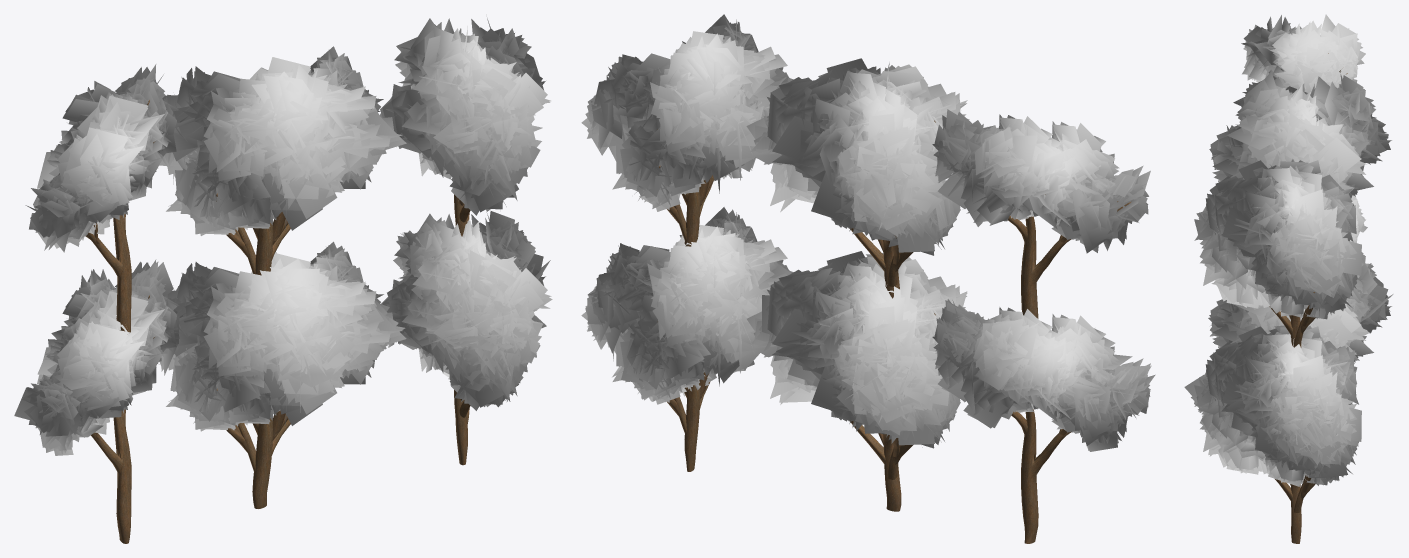
The model's file is 1_TreeTop_1A.fbx.
The picture shows the model from 3 angles, left to right: view 1: azimuth 30°, elevation 25°; view 2: azimuth 150°, elevation 25°; view 3: azimuth 270°, elevation 25°; orthographic projection. The views are drawn at different scales.
Parts seen in each view (by area): view 1: TreeTop_1A2, TreeTop_1A2.001, TreeTop_1A3, TreeTop_1A3.001, TreeTop_1A1, TreeTop_1A1.001; view 2: TreeTop_1A2, TreeTop_1A2.001, TreeTop_1A3, TreeTop_1A3.001, TreeTop_1A1, TreeTop_1A1.001; view 3: TreeTop_1A3, TreeTop_1A3.001, TreeTop_1A2.001, TreeTop_1A1.001, TreeTop_1A2, TreeTop_1A1.
Part boxes in pixels (x1,y1,x2,y2): TreeTop_1A2: (159, 241, 406, 508); TreeTop_1A2.001: (159, 46, 406, 275); TreeTop_1A3: (381, 211, 552, 465); TreeTop_1A3.001: (379, 18, 550, 236); TreeTop_1A1: (14, 259, 179, 543); TreeTop_1A1.001: (25, 64, 179, 332); TreeTop_1A2: (747, 251, 967, 511); TreeTop_1A2.001: (746, 58, 969, 298); TreeTop_1A3: (581, 207, 793, 471); TreeTop_1A3.001: (581, 14, 793, 246); TreeTop_1A1: (932, 299, 1155, 543); TreeTop_1A1.001: (932, 109, 1150, 318); TreeTop_1A3: (1184, 325, 1361, 543); TreeTop_1A3.001: (1194, 159, 1361, 347); TreeTop_1A2.001: (1209, 71, 1391, 198); TreeTop_1A1.001: (1241, 14, 1365, 92); TreeTop_1A2: (1208, 252, 1393, 362); TreeTop_1A1: (1350, 195, 1367, 242).
Size of the model in its own units: 29166 by 23164 by 11482.
